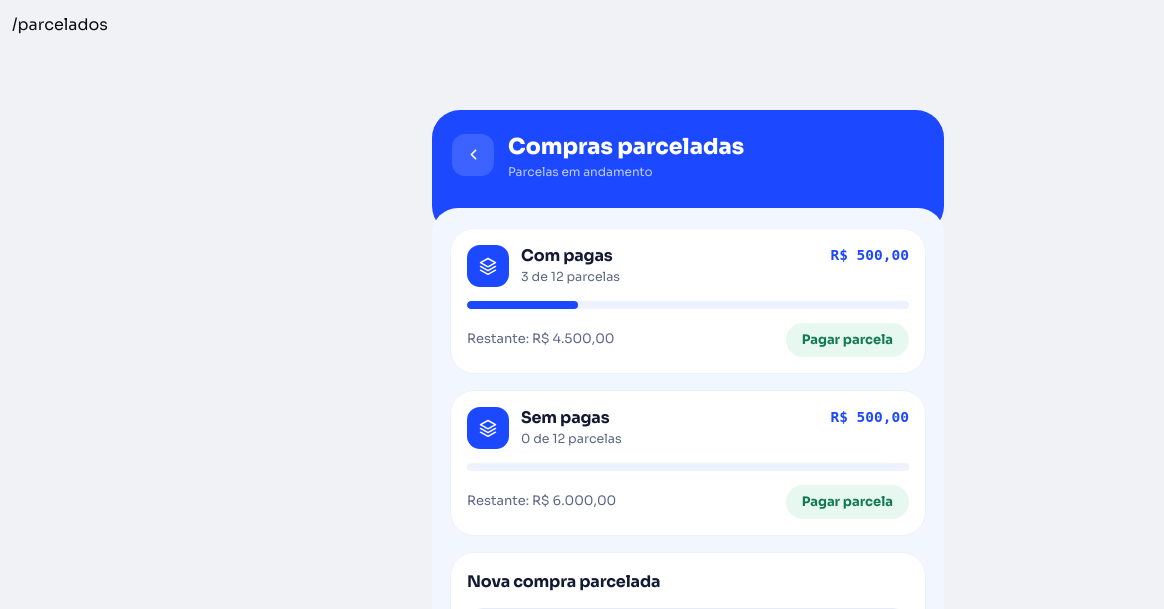
Test case: Parcelados — lista › "Desfazer" só aparece no detalhe (toque no card) e só quando há parcela paga
This screenshot has width=1164, height=609.
Expected: the text "Com pagas" is shown, left=521, top=245, right=612, bottom=266
Expected: the button "desfazer" is not shown
Click the button "Com pagas 3 de 12 parcelas R$ 500,00" at [488, 266], box left=467, top=245, right=909, bottom=287
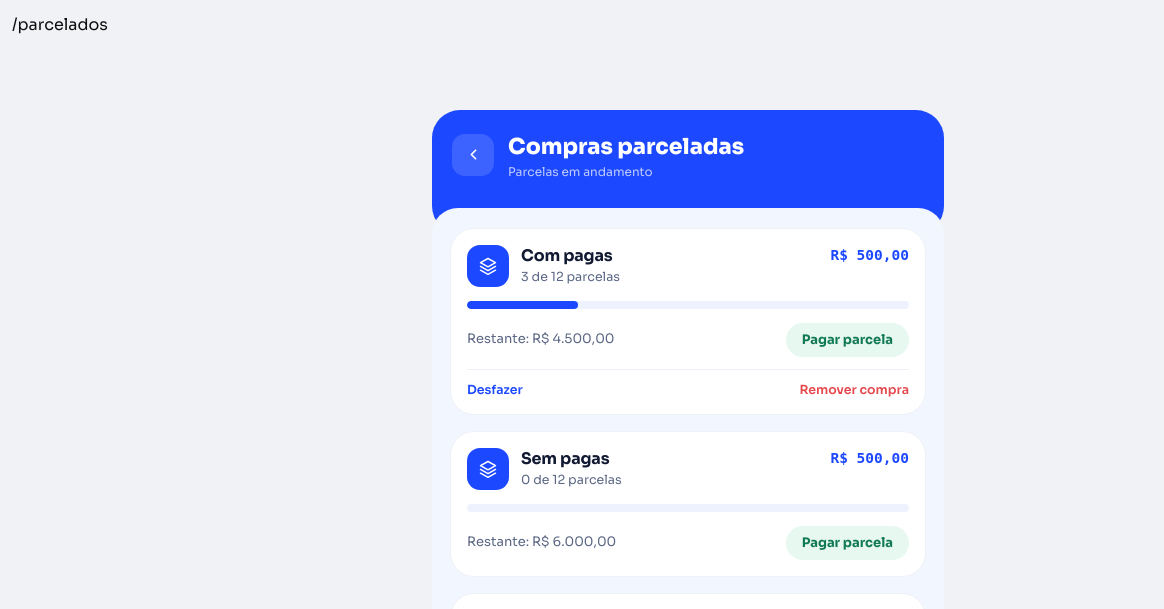
Expected: the button "Desfazer" is shown, left=467, top=382, right=523, bottom=398
Click the button "Sem pagas 0 de 12 parcelas R$ 500,00" at [488, 469], box left=467, top=448, right=909, bottom=490
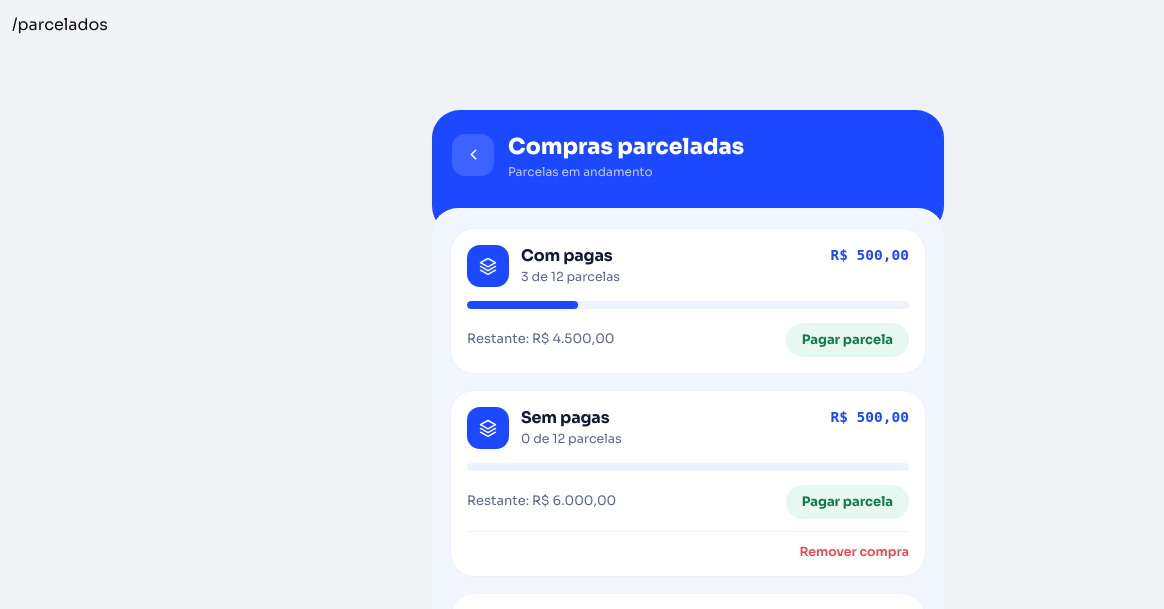
Expected: the button "Desfazer" is gone
